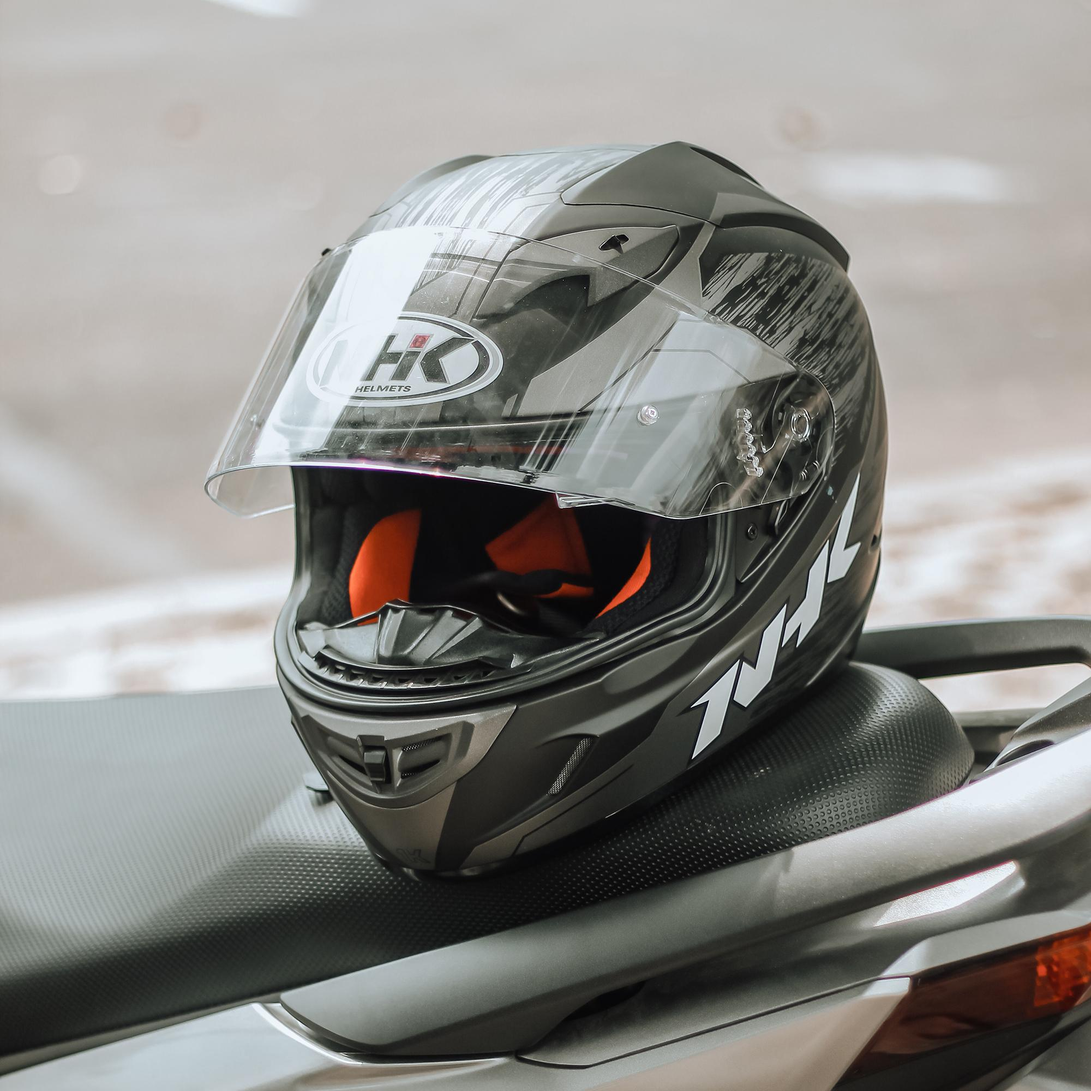helmet: (203, 137, 893, 888)
